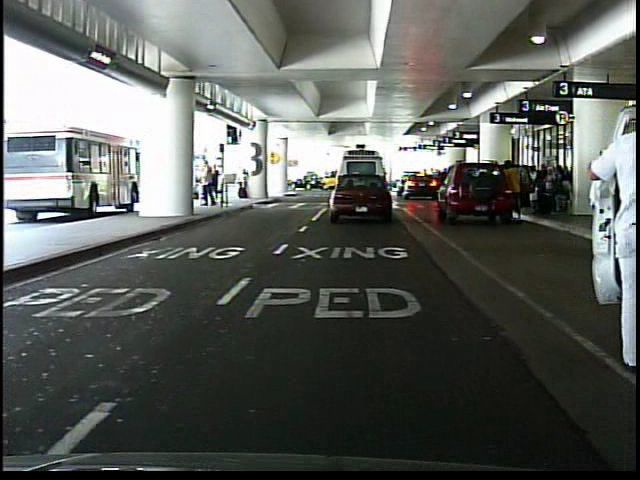person: (574, 94, 639, 373), (591, 149, 623, 233), (504, 159, 524, 223), (200, 155, 218, 210), (237, 166, 255, 203), (209, 162, 223, 208)
